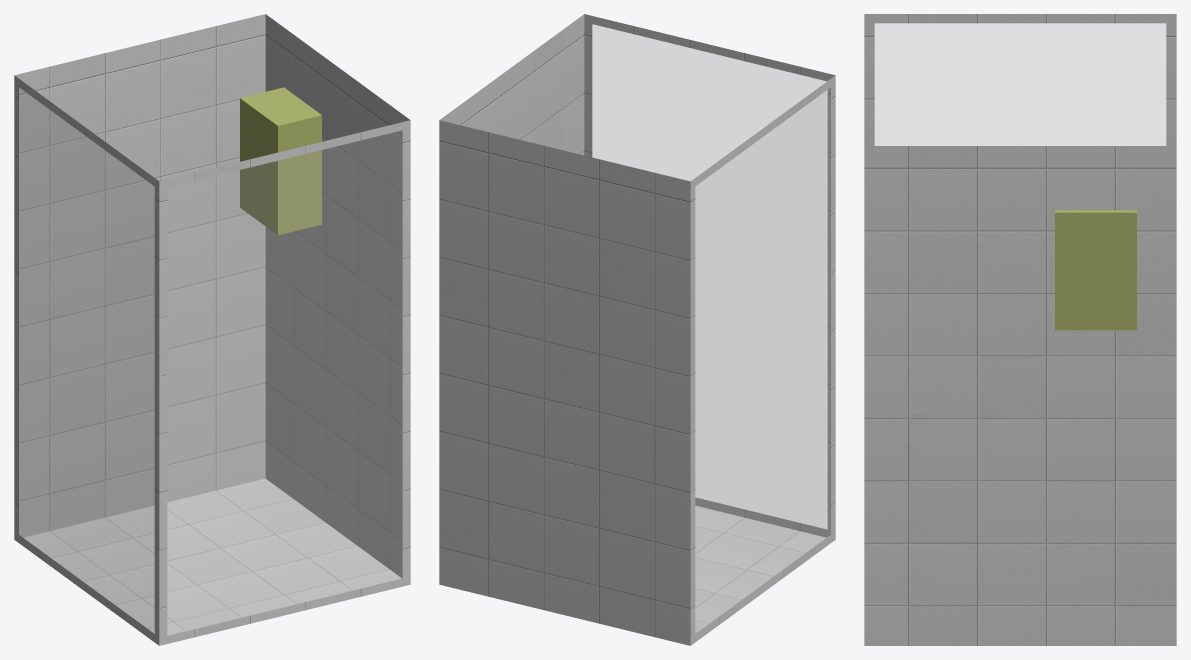
File: Shower.glb
3 views of the same model, side by side, from view 1: azimuth 30°, elevation 25°; view 2: azimuth 150°, elevation 25°; view 3: azimuth 270°, elevation 25° (orthographic). The views are drawn at different scales.
Parts seen in each view (by area): view 1: Cube, Cube.001; view 2: Cube; view 3: Cube, Cube.001.
Part boxes in pixels (left/top/right/bottom): Cube: left=14, top=14, right=410, bottom=645; Cube.001: left=240, top=87, right=321, bottom=235; Cube: left=439, top=14, right=835, bottom=645; Cube: left=864, top=14, right=1176, bottom=645; Cube.001: left=1055, top=210, right=1136, bottom=330.
Bounding box in the file's own units: 4.89 × 8.49 × 4.81.
3 materials, 1 textured.
